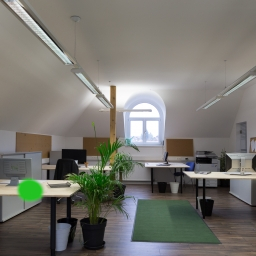focus: (15, 178, 49, 206)
